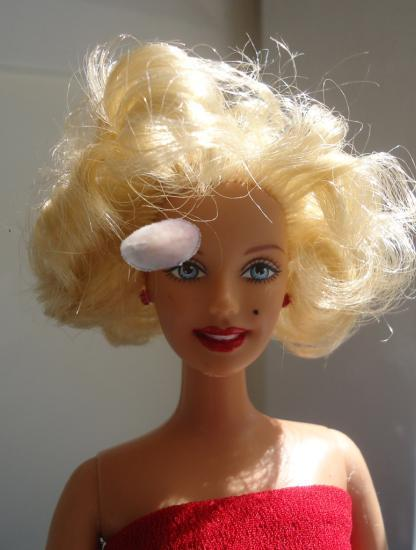Hazelnut: (119, 202, 205, 288)
